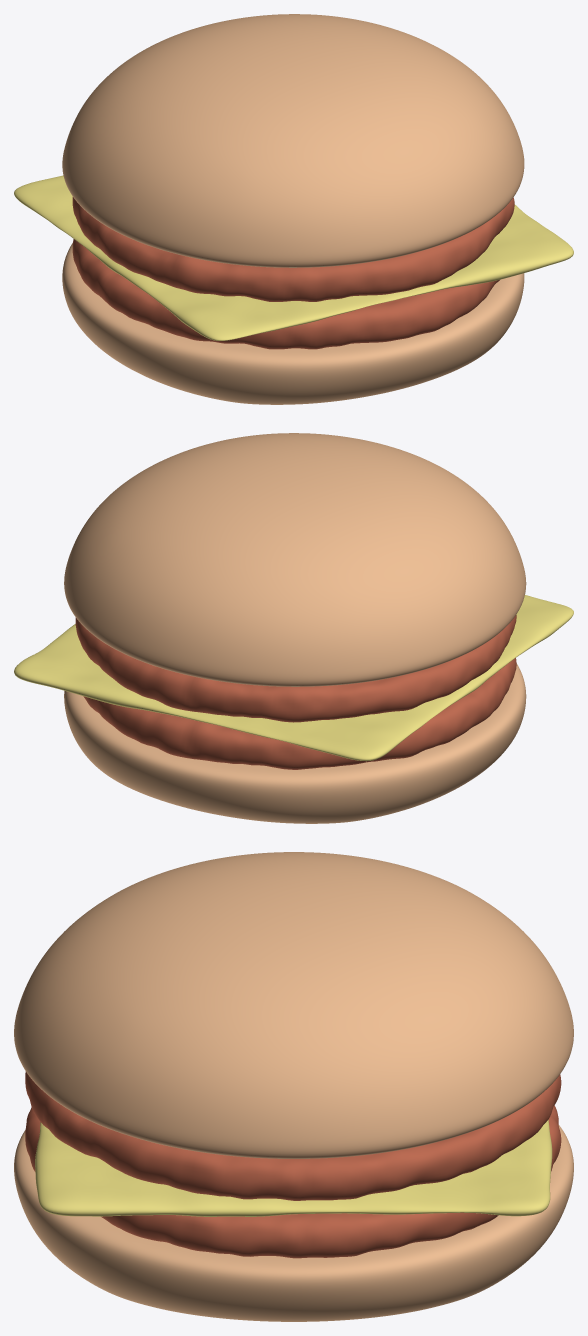
The model's file is burger.glb.
The picture shows the model from 3 angles, top to bottom: view 1: azimuth 30°, elevation 25°; view 2: azimuth 150°, elevation 25°; view 3: azimuth 270°, elevation 25°; orthographic projection. The views are drawn at different scales.
Parts seen in each view (by area): view 1: Bun_top, Bun_bottom, cheese, Patty_top, Patty_bottom; view 2: Bun_top, Bun_bottom, cheese, Patty_top, Patty_bottom; view 3: Bun_top, Bun_bottom, Patty_top, cheese, Patty_bottom.
Boxes of the visible parts, box(x1,y1,x2,y2) form: Bun_top: box(62, 14, 524, 267); Bun_bottom: box(62, 243, 524, 404); cheese: box(14, 175, 573, 340); Patty_top: box(72, 197, 514, 301); Patty_bottom: box(72, 239, 499, 349); Bun_top: box(64, 433, 526, 686); Bun_bottom: box(64, 663, 526, 823); cheese: box(14, 595, 573, 761); Patty_top: box(75, 615, 516, 722); Patty_bottom: box(83, 658, 516, 769); Bun_top: box(14, 852, 573, 1158); Bun_bottom: box(14, 1125, 573, 1321); Patty_top: box(25, 1071, 561, 1200); cheese: box(35, 1119, 552, 1216); Patty_bottom: box(25, 1105, 561, 1258).
Size of the model in its own units: 1.97 by 1.25 by 1.97.
